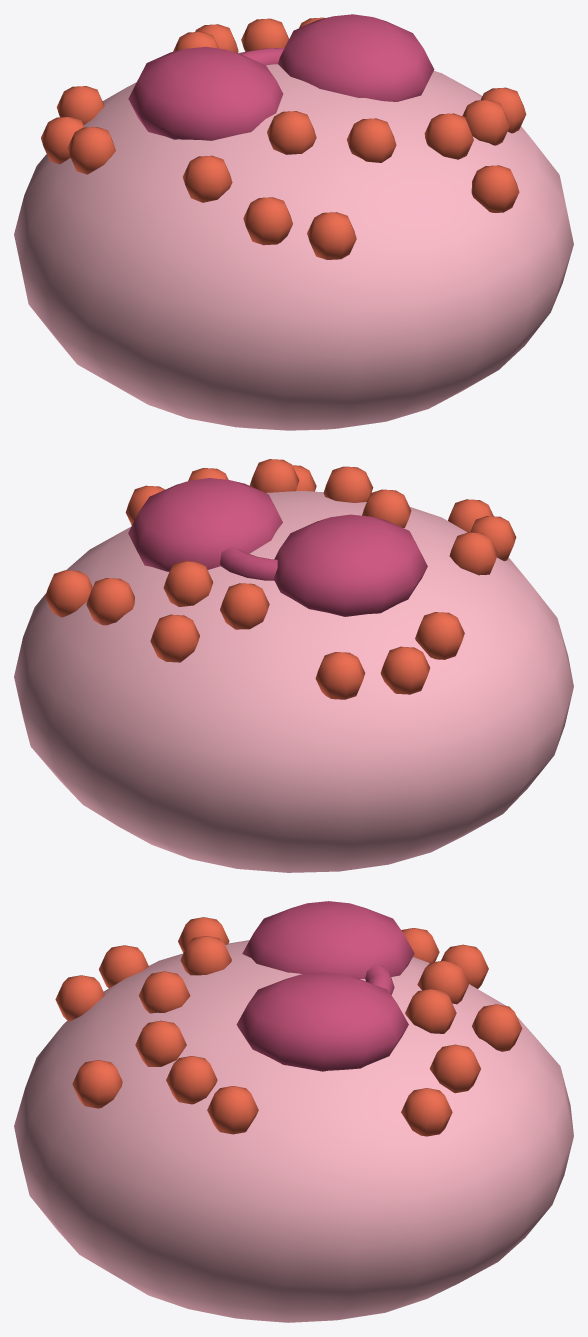
The model's file is eosinophil.glb.
3 views of the same model, one above another, from view 1: azimuth 30°, elevation 25°; view 2: azimuth 150°, elevation 25°; view 3: azimuth 270°, elevation 25° (orthographic).
Visible parts, largest first — view 1: IW_L2_x_eosinophil; view 2: IW_L2_x_eosinophil; view 3: IW_L2_x_eosinophil.
Boxes of the visible parts, <box> form: IW_L2_x_eosinophil: <box>14,14,573,430</box>; IW_L2_x_eosinophil: <box>14,459,573,872</box>; IW_L2_x_eosinophil: <box>14,901,573,1322</box>.
Size of the model in its own units: 1.96 by 1.3 by 1.95.
